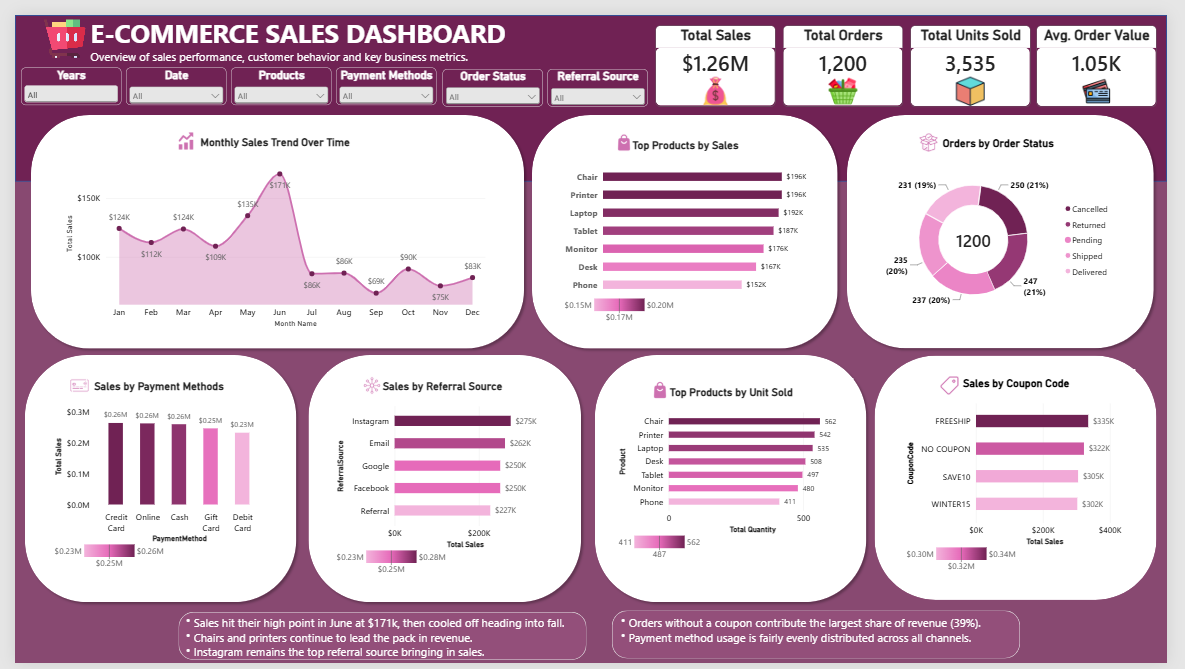

Layout of this report page (visuals, bound fields, positions):
{"tool":"powerbi","page":{"name":"E-Commerce Sales Dashboard","canvas":[1920,1080],"ordinal":0},"visuals":[{"type":"shape","box":[1432.5,567.5,470,407.5],"z":0},{"type":"shape","box":[0,0,1920,277.5],"z":1000},{"type":"shape","box":[17.5,157.5,840,407.5],"z":2000},{"type":"shape","box":[852.5,157.5,527.5,407.5],"z":3000},{"type":"shape","box":[1378.6,158.2,529.2,407],"z":4000},{"type":"shape","box":[957.3,556.8,470.2,430],"z":5000},{"type":"shape","box":[480.4,556.8,472.4,430],"z":6000},{"type":"shape","box":[7.9,556.8,470.2,430],"z":7000},{"type":"cardVisual","title":"Total Sales","fields":{"Data":["Cleaned Dataset.Total Sales"]},"box":[1066.7,16.2,200,135],"z":8000},{"type":"cardVisual","title":"Avg. Order Value","fields":{"Data":["Cleaned Dataset.Average Order Value"]},"box":[1702,16.2,200,136],"z":9000},{"type":"cardVisual","title":"Total Orders","fields":{"Data":["Cleaned Dataset.Total Orders Display"]},"box":[1279.2,16.2,200,135],"z":10000},{"type":"cardVisual","title":"Total Units Sold","fields":{"Data":["Cleaned Dataset.Total Quantity Display"]},"box":[1491.3,16.2,200,136],"z":11000},{"type":"textbox","title":"E-COMMERCE SALES DASHBOARD","box":[0,0,1067.5,112.5],"z":12000},{"type":"areaChart","title":"Monthly  Sales Trend Over Time","fields":{"Category":["Cleaned Dataset.Month Name"],"Y":["Cleaned Dataset.Total Sales"]},"box":[67.5,187.5,732.5,350],"z":13000},{"type":"clusteredBarChart","title":" Top Products by Sales","fields":{"Category":["Cleaned Dataset.Product"],"Y":["Cleaned Dataset.Total Sales"]},"box":[900,192.5,435,335],"z":14000},{"type":"donutChart","title":"Orders by Order Status","fields":{"Category":["Cleaned Dataset.OrderStatus"],"Y":["Cleaned Dataset.Total Orders"]},"box":[1430,190,417.5,335],"z":15000},{"type":"columnChart","title":"Sales by Payment Methods","fields":{"Category":["Cleaned Dataset.PaymentMethod"],"Y":["Cleaned Dataset.Total Sales"]},"box":[50,595,380,342.5],"z":16000},{"type":"barChart","title":"Sales by Referral Source","fields":{"Category":["Cleaned Dataset.ReferralSource"],"Y":["Cleaned Dataset.Total Sales"]},"box":[520,595,385,352.5],"z":17000},{"type":"barChart","title":"Top Products by Unit Sold","fields":{"Category":["Cleaned Dataset.Product"],"Y":["Cleaned Dataset.Total Quantity"]},"box":[990,605,407.5,317.5],"z":18000},{"type":"slicer","title":"Date","fields":{"Values":["Cleaned Dataset.Date"]},"box":[185,87.5,167.5,62.5],"z":19000},{"type":"slicer","title":"Products","fields":{"Values":["Cleaned Dataset.Product"]},"box":[360,87.5,167.5,62.5],"z":20000},{"type":"slicer","title":"Payment Methods","fields":{"Values":["Cleaned Dataset.PaymentMethod"]},"box":[535,87.5,167.5,62.5],"z":21000},{"type":"slicer","title":"Order Status","fields":{"Values":["Cleaned Dataset.OrderStatus"]},"box":[712.5,90,167.5,62.5],"z":22000},{"type":"slicer","title":"Referral Source","fields":{"Values":["Cleaned Dataset.ReferralSource"]},"box":[887.5,90,167.5,62.5],"z":23000},{"type":"slicer","title":"Years","fields":{"Values":["Cleaned Dataset.Year"]},"box":[8.8,86.9,167,62.5],"z":24000},{"type":"barChart","title":"Sales by Coupon Code","fields":{"Category":["Cleaned Dataset.CouponCode"],"Y":["Cleaned Dataset.Total Sales"]},"box":[1470,590,397.5,352.5],"z":25000},{"type":"image","box":[38.6,6.8,80,64],"z":26000},{"type":"shape","box":[272.5,995,680,80],"z":27000},{"type":"shape","box":[995,992.5,680,80],"z":28000},{"type":"textbox","box":[270,995,720,80],"z":29000},{"type":"textbox","box":[995,995,645,75],"z":30000},{"type":"image","box":[260,195,50,30],"z":30001},{"type":"image","box":[990,197.5,50,30],"z":30002},{"type":"image","box":[82.5,602.5,50,30],"z":30003},{"type":"image","box":[570,602.5,50,30],"z":30004},{"type":"image","box":[1050,610,50,30],"z":30005},{"type":"image","box":[1497.5,197.5,50,30],"z":30006},{"type":"image","box":[1532.5,602.5,50,30],"z":30007}]}

Visuals, with their boxes in screenshot pixels (x1, y1, x2, y2), scaled from the page's 1920x1080 canvas onto the 1185x669 screenshot:
shape: rect(884, 352, 1174, 604)
shape: rect(0, 0, 1184, 172)
shape: rect(11, 98, 529, 350)
shape: rect(526, 98, 852, 350)
shape: rect(851, 98, 1177, 350)
shape: rect(591, 345, 881, 611)
shape: rect(296, 345, 588, 611)
shape: rect(5, 345, 295, 611)
"Total Sales" cardVisual: rect(658, 10, 782, 94)
"Avg. Order Value" cardVisual: rect(1050, 10, 1174, 94)
"Total Orders" cardVisual: rect(790, 10, 913, 94)
"Total Units Sold" cardVisual: rect(920, 10, 1044, 94)
"E-COMMERCE SALES DASHBOARD" textbox: rect(0, 0, 659, 70)
"Monthly  Sales Trend Over Time" areaChart: rect(42, 116, 494, 333)
" Top Products by Sales" clusteredBarChart: rect(555, 119, 824, 327)
"Orders by Order Status" donutChart: rect(883, 118, 1140, 325)
"Sales by Payment Methods" columnChart: rect(31, 369, 265, 581)
"Sales by Referral Source" barChart: rect(321, 369, 559, 587)
"Top Products by Unit Sold" barChart: rect(611, 375, 863, 571)
"Date" slicer: rect(114, 54, 218, 93)
"Products" slicer: rect(222, 54, 326, 93)
"Payment Methods" slicer: rect(330, 54, 434, 93)
"Order Status" slicer: rect(440, 56, 543, 94)
"Referral Source" slicer: rect(548, 56, 651, 94)
"Years" slicer: rect(5, 54, 109, 93)
"Sales by Coupon Code" barChart: rect(907, 365, 1153, 584)
image: rect(24, 4, 73, 44)
shape: rect(168, 616, 588, 666)
shape: rect(614, 615, 1034, 664)
textbox: rect(167, 616, 611, 666)
textbox: rect(614, 616, 1012, 663)
image: rect(160, 121, 191, 139)
image: rect(611, 122, 642, 141)
image: rect(51, 373, 82, 392)
image: rect(352, 373, 383, 392)
image: rect(648, 378, 679, 396)
image: rect(924, 122, 955, 141)
image: rect(946, 373, 977, 392)
